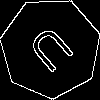U: (25, 23, 83, 82)
